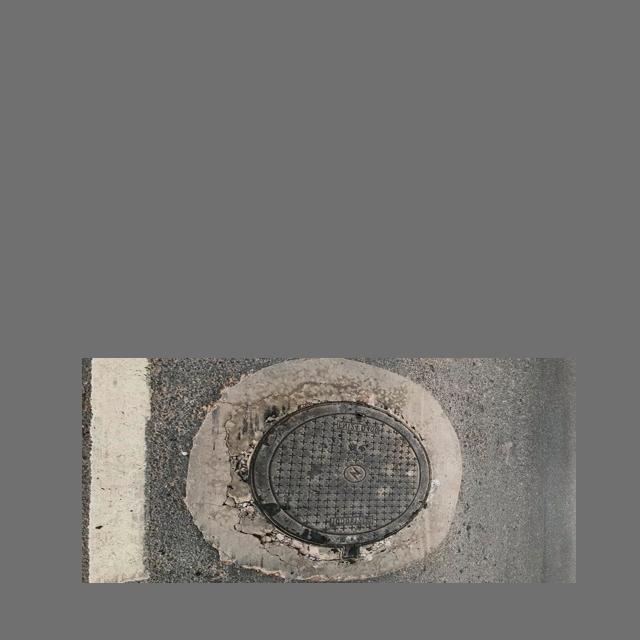circle: (187, 364, 461, 578)
